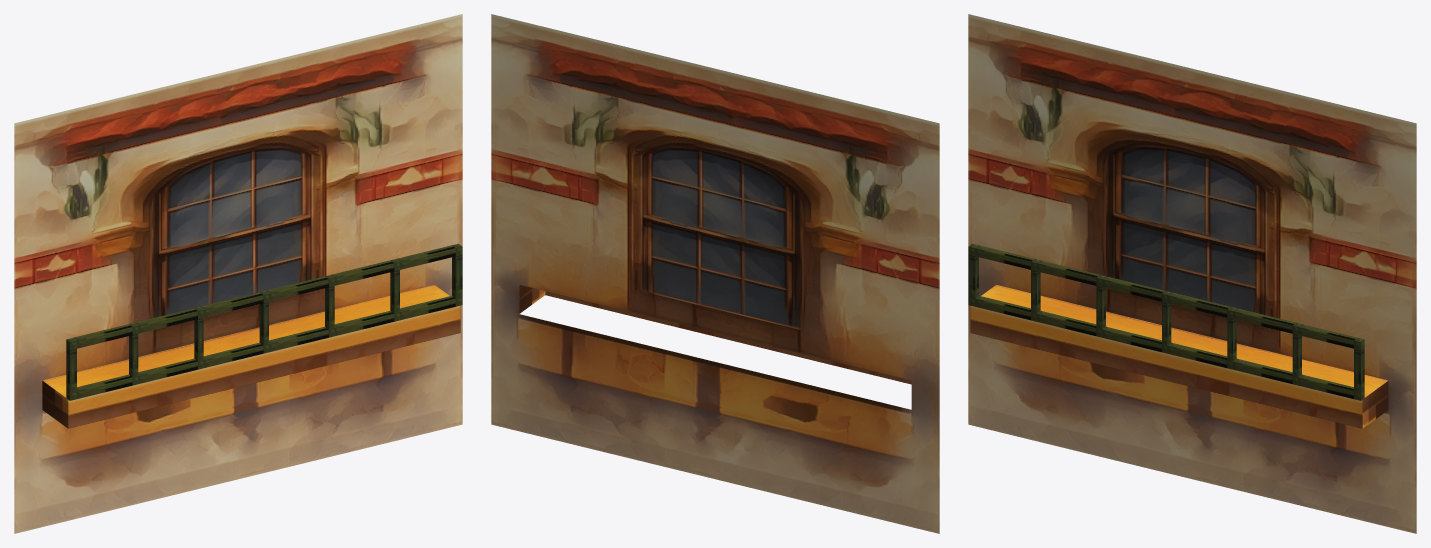
Rendered from SPN_U_Bay4A.fbx.
3 views of the same model, side by side, from view 1: azimuth 30°, elevation 25°; view 2: azimuth 150°, elevation 25°; view 3: azimuth 330°, elevation 25° (orthographic).
Visible parts, largest first — view 1: SPN_U_Bay4A; view 2: SPN_U_Bay4A; view 3: SPN_U_Bay4A.
Part boxes in pixels (bbox=[...]): SPN_U_Bay4A: bbox=[14, 14, 462, 533]; SPN_U_Bay4A: bbox=[491, 14, 939, 533]; SPN_U_Bay4A: bbox=[968, 14, 1416, 533].
Size of the model in its own units: 4 by 0.43 by 3.5.
Materials: 1 (1 with a texture image).
